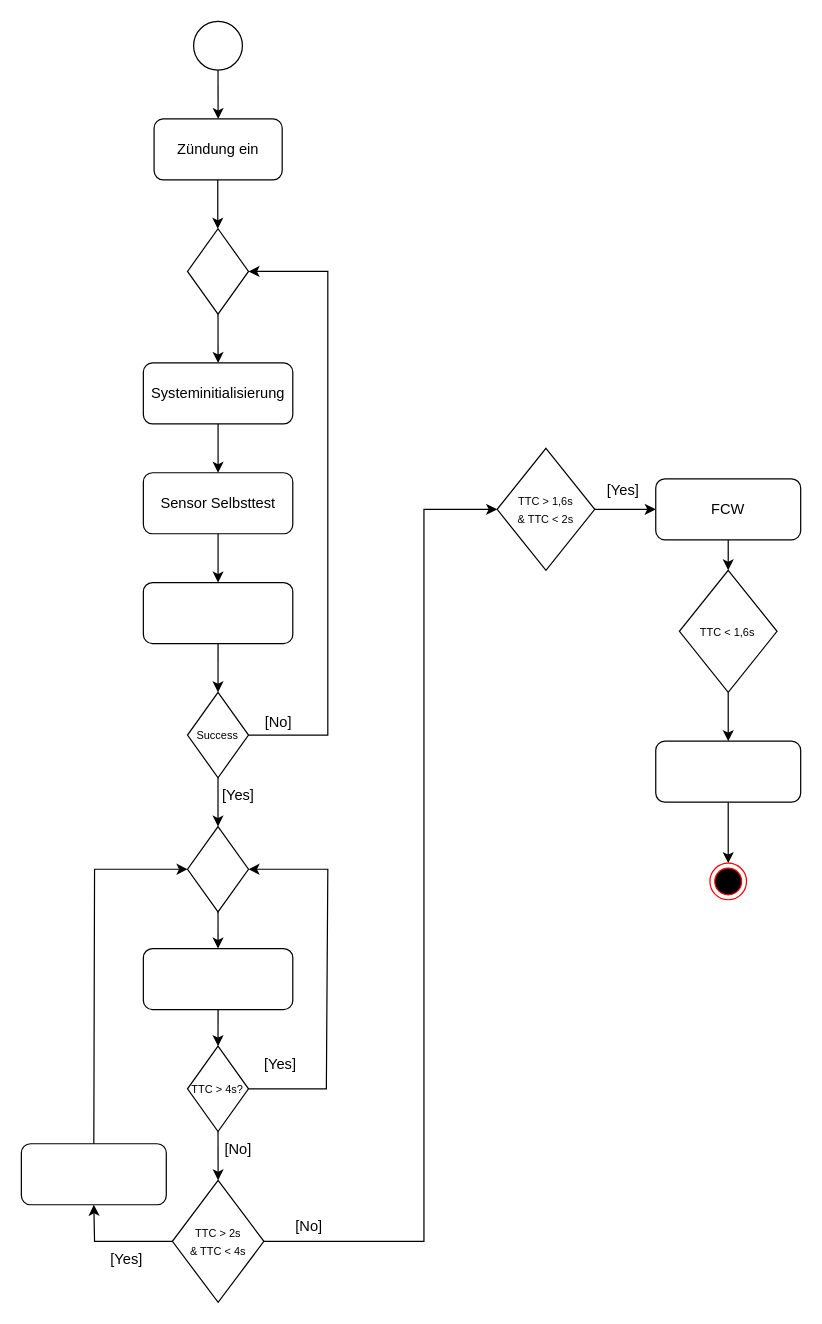
The diagram is 822 pixels wide and 1324 high, and some of its shapes have lost their labels. Here are the shapes that lost their labels. From the top down, the centre of each, then its label:
[217,612]: Sensorinitialisierung
[728,771]: AEB
[217,978]: Kontinuierliche Überwachung
[93,1174]: Bremsen Pre-Fill
